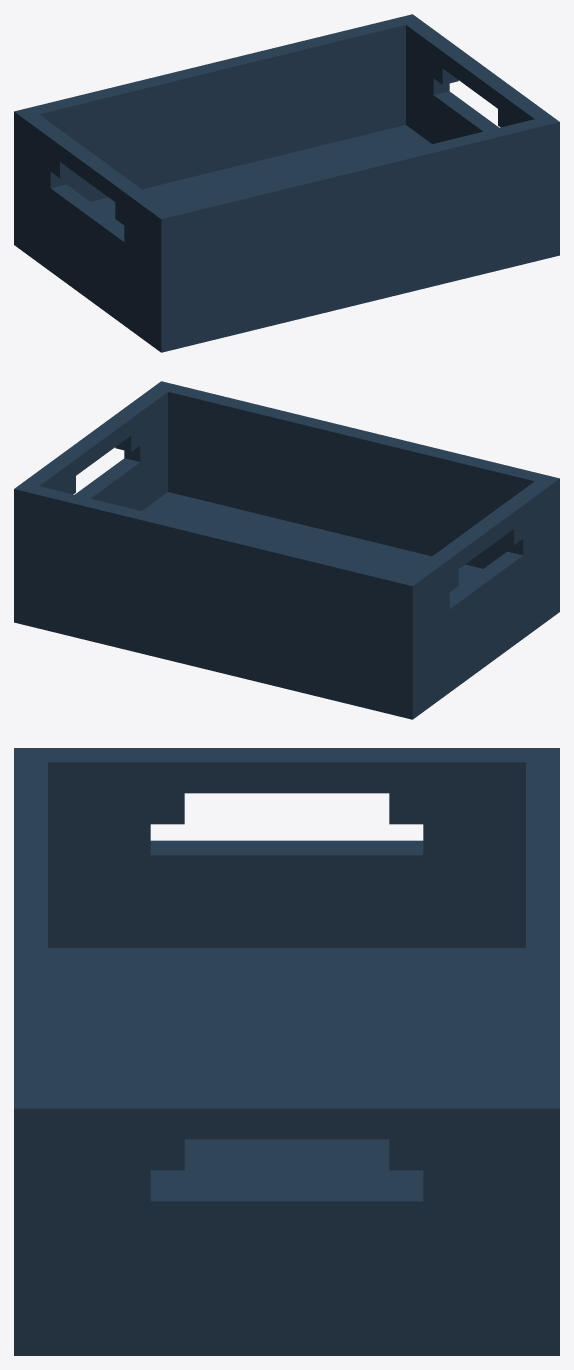
Rendered from skrzynka_plastik.dae.
3 renders of one model, top to bottom at view 1: azimuth 30°, elevation 25°; view 2: azimuth 150°, elevation 25°; view 3: azimuth 270°, elevation 25°, orthographic. The views are drawn at different scales.
Parts seen in each view (by area): view 1: Content; view 2: Content; view 3: Content.
Part boxes in pixels (x1=…): Content: x1=14, y1=14, x2=559, y2=352; Content: x1=14, y1=381, x2=559, y2=719; Content: x1=14, y1=748, x2=559, y2=1355.
Bounding box in the file's own units: 25 × 8 × 16.
Materials: 1 (1 with a texture image).
